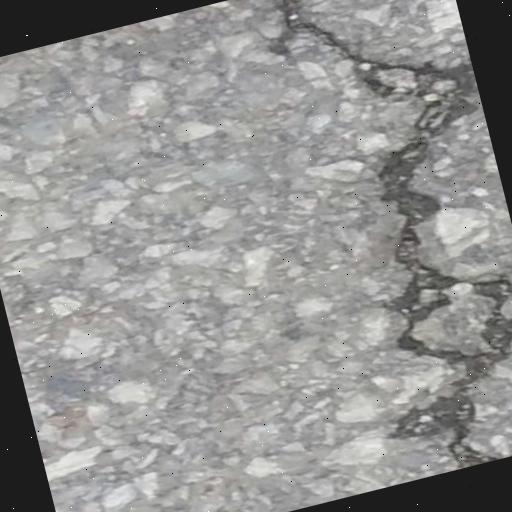spalling: (269, 0, 512, 466)
